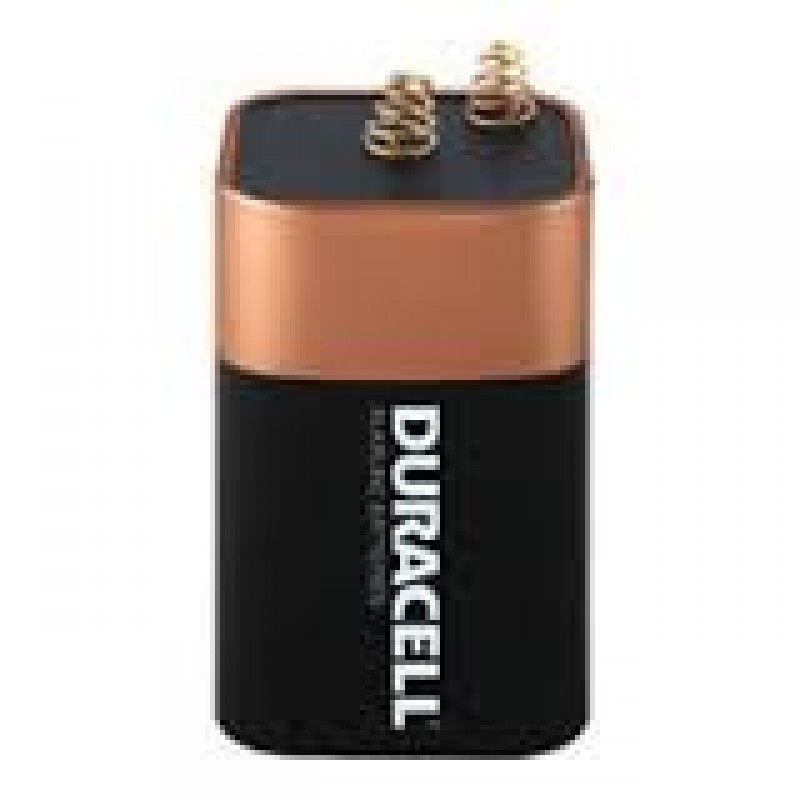6V: (201, 48, 618, 774)
